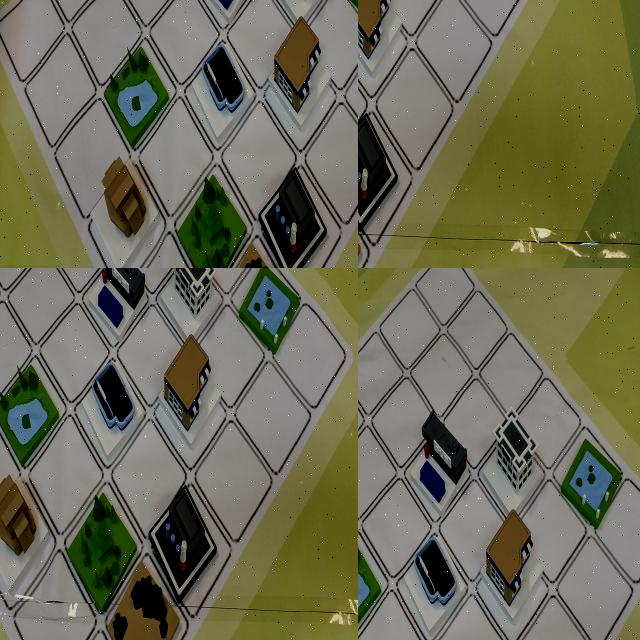bus_stop: (403, 407, 472, 522), (123, 416, 184, 519), (183, 0, 234, 68), (358, 0, 381, 41)
factory: (161, 191, 218, 268), (209, 268, 250, 304)
fish_pool: (561, 429, 628, 541), (262, 146, 313, 235), (12, 268, 62, 309)
forest: (159, 0, 215, 46), (172, 268, 219, 306), (358, 0, 380, 74)
gogo_shop: (397, 523, 465, 639), (121, 314, 175, 407), (209, 36, 258, 131), (358, 0, 378, 35)
research_build: (478, 404, 544, 519), (298, 92, 351, 187), (0, 268, 26, 310)
restaurant: (477, 501, 549, 623), (142, 29, 197, 124), (358, 3, 378, 80), (0, 268, 32, 307)
silicate_rock: (245, 0, 295, 42), (79, 268, 121, 304), (358, 0, 381, 35)
volunteer_center: (238, 0, 289, 77), (30, 268, 71, 307)
wet_land: (201, 132, 258, 228), (358, 527, 396, 640), (245, 268, 295, 308)
